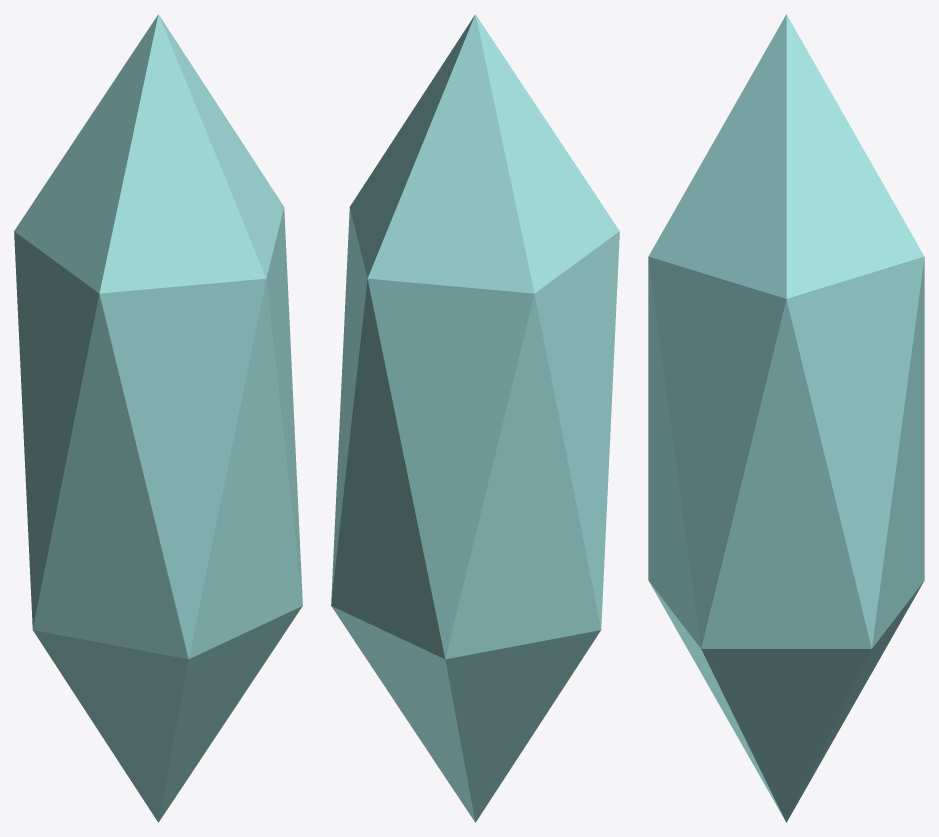
Rendered from SaveStationCrystal.fbx.
3 views of the same model, side by side, from view 1: azimuth 30°, elevation 25°; view 2: azimuth 150°, elevation 25°; view 3: azimuth 270°, elevation 25° (orthographic).
Parts seen in each view (by area): view 1: SaveStationCrystal; view 2: SaveStationCrystal; view 3: SaveStationCrystal.
Boxes of the visible parts, left/top/right/bottom form: SaveStationCrystal: left=14, top=14, right=302, bottom=822; SaveStationCrystal: left=331, top=14, right=619, bottom=822; SaveStationCrystal: left=648, top=14, right=924, bottom=822.
Bounding box in the file's own units: 0.4109 × 1.26 × 0.3908.
